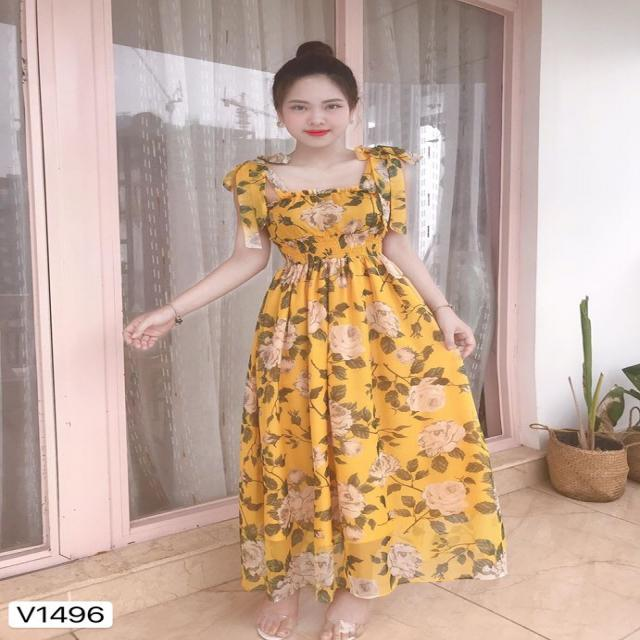clothes: (219, 150, 504, 601)
